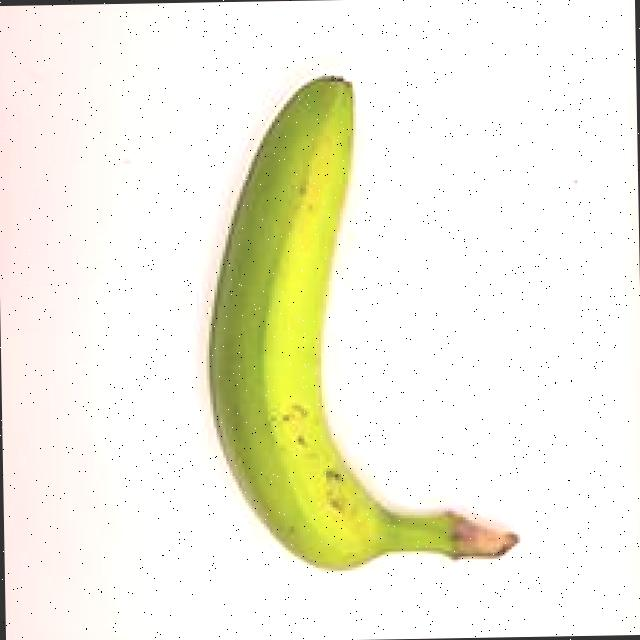Unripe: (135, 26, 548, 605)
